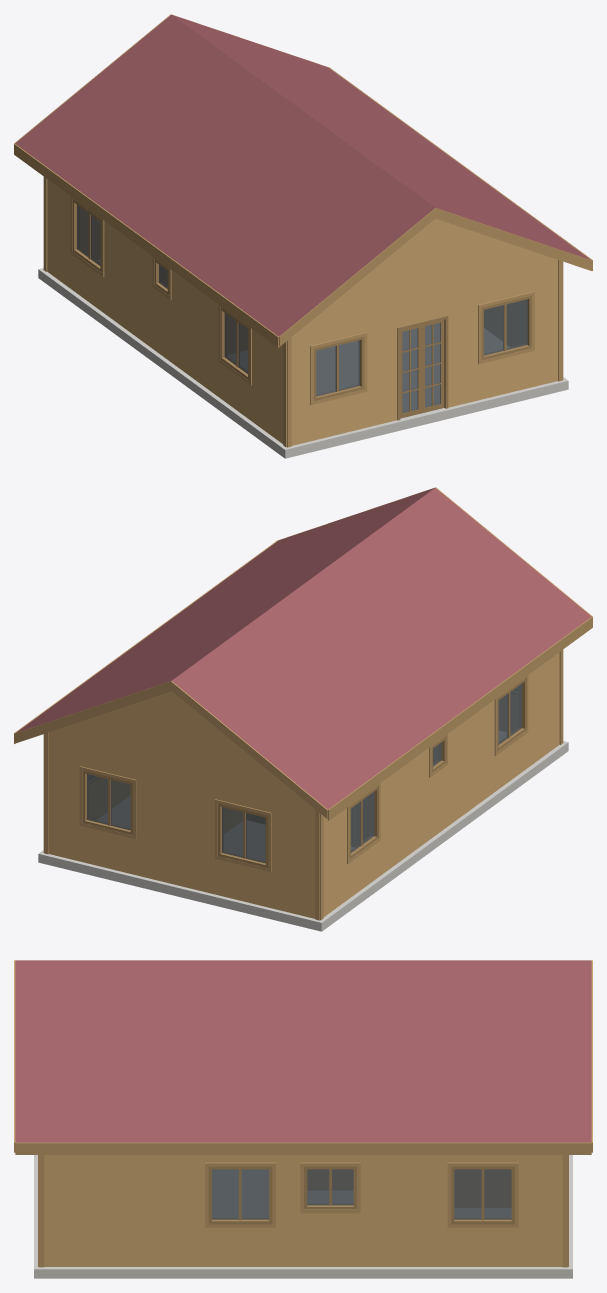
Rendered from farm-cabin-6.5x10_3d.glb.
The picture shows the model from 3 angles, top to bottom: view 1: azimuth 30°, elevation 25°; view 2: azimuth 150°, elevation 25°; view 3: azimuth 270°, elevation 25°; orthographic projection. The views are drawn at different scales.
Visible parts, largest first — view 1: roof_tiles, wood, trim, slab, glass, frame, door; view 2: roof_tiles, wood, trim, slab, glass, frame; view 3: roof_tiles, wood, trim, slab, glass, frame, wood_in.
Boxes of the visible parts, x1,y1,x2,y2 form: roof_tiles: [15, 14, 591, 336]; wood: [47, 179, 557, 445]; trim: [14, 14, 592, 447]; slab: [38, 260, 568, 458]; glass: [77, 205, 527, 413]; frame: [72, 199, 531, 420]; door: [162, 268, 444, 418]; roof_tiles: [15, 487, 591, 809]; wood: [49, 652, 559, 918]; trim: [14, 487, 592, 920]; slab: [38, 731, 568, 931]; glass: [87, 684, 521, 863]; frame: [82, 678, 526, 868]; roof_tiles: [15, 960, 591, 1142]; wood: [44, 1155, 562, 1266]; trim: [14, 960, 592, 1267]; slab: [34, 1155, 572, 1278]; glass: [212, 1169, 511, 1219]; frame: [208, 1166, 514, 1224]; wood_in: [308, 1170, 510, 1207].
Size of the model in its own units: 7.5 by 5.06 by 10.93.
